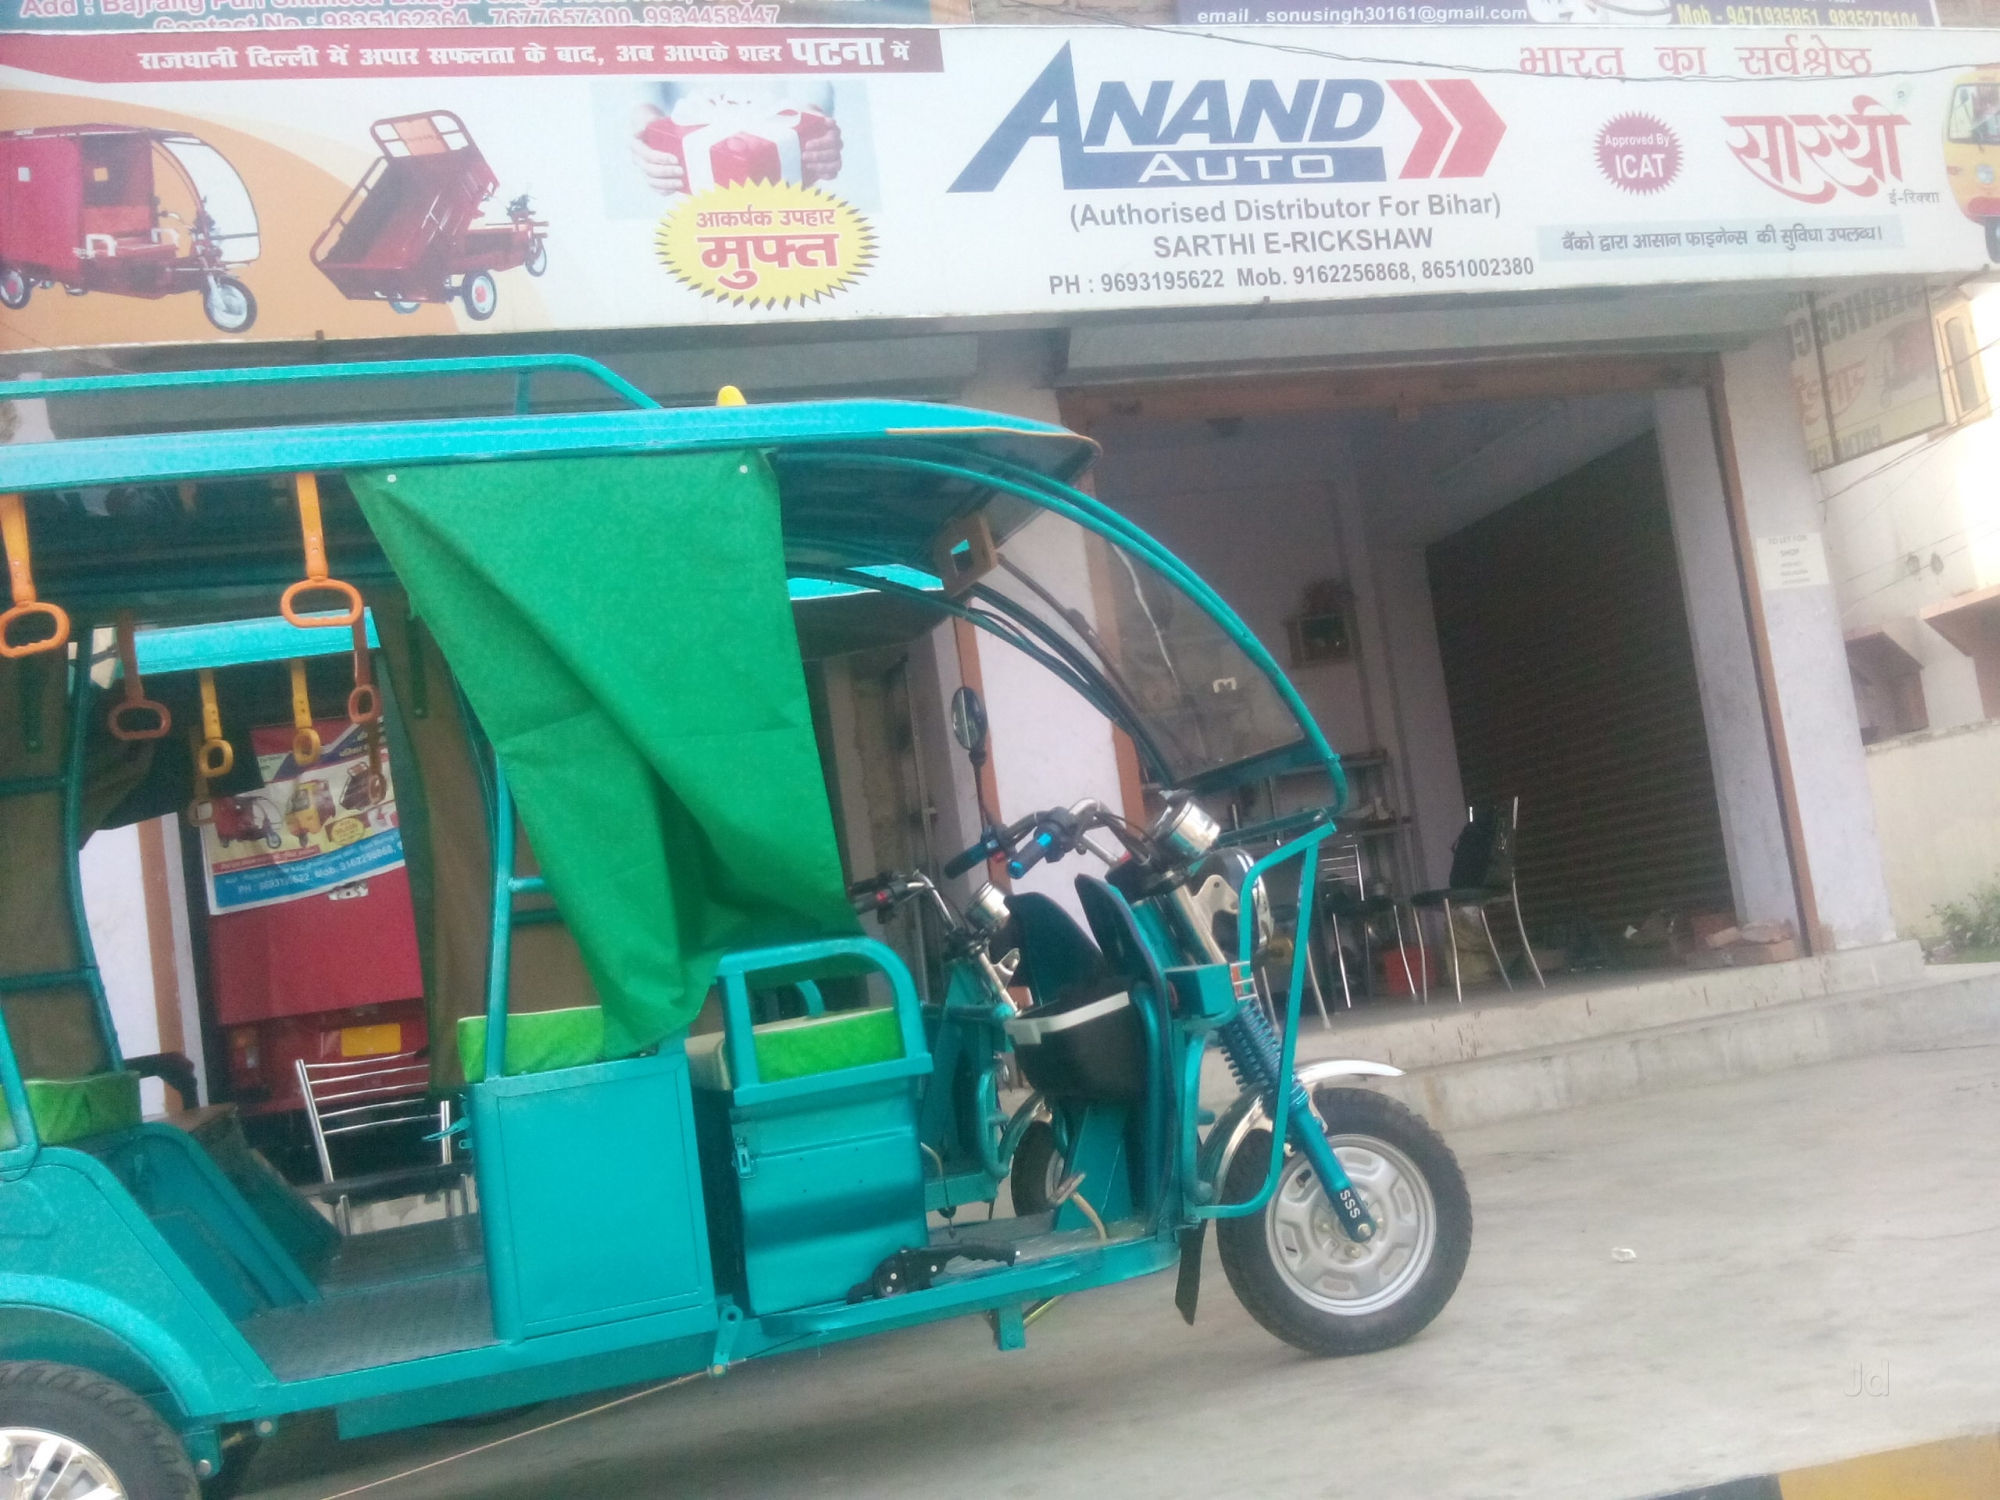auto rickshaw: (5, 355, 1476, 1500)
